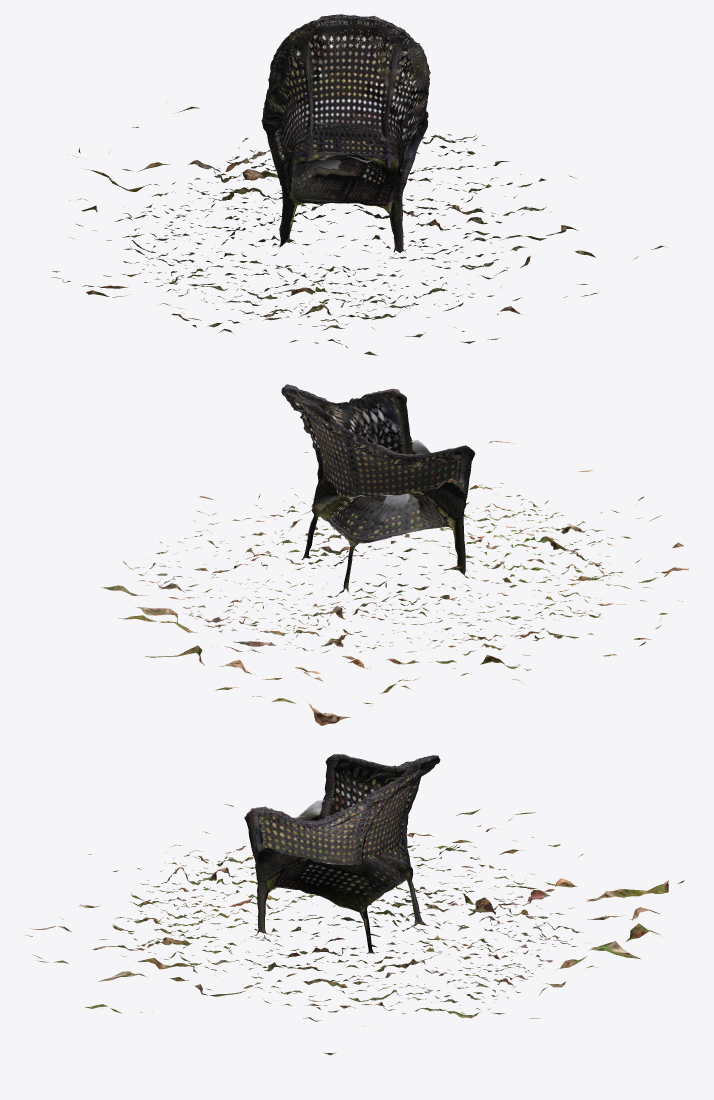
File: outdoor_chair.glb
3 views of the same model, one above another, from view 1: azimuth 30°, elevation 25°; view 2: azimuth 150°, elevation 25°; view 3: azimuth 270°, elevation 25° (orthographic). The views are drawn at different scales.
Parts seen in each view (by area): view 1: Mesh_0; view 2: Mesh_0; view 3: Mesh_0.
Part boxes in pixels (left/top/right/bottom): Mesh_0: left=51, top=14, right=666, bottom=355; Mesh_0: left=101, top=384, right=688, bottom=725; Mesh_0: left=25, top=754, right=684, bottom=1055.
Bounding box in the file's own units: 1.66 × 0.5134 × 1.62.
Materials: 1 (1 with a texture image).
